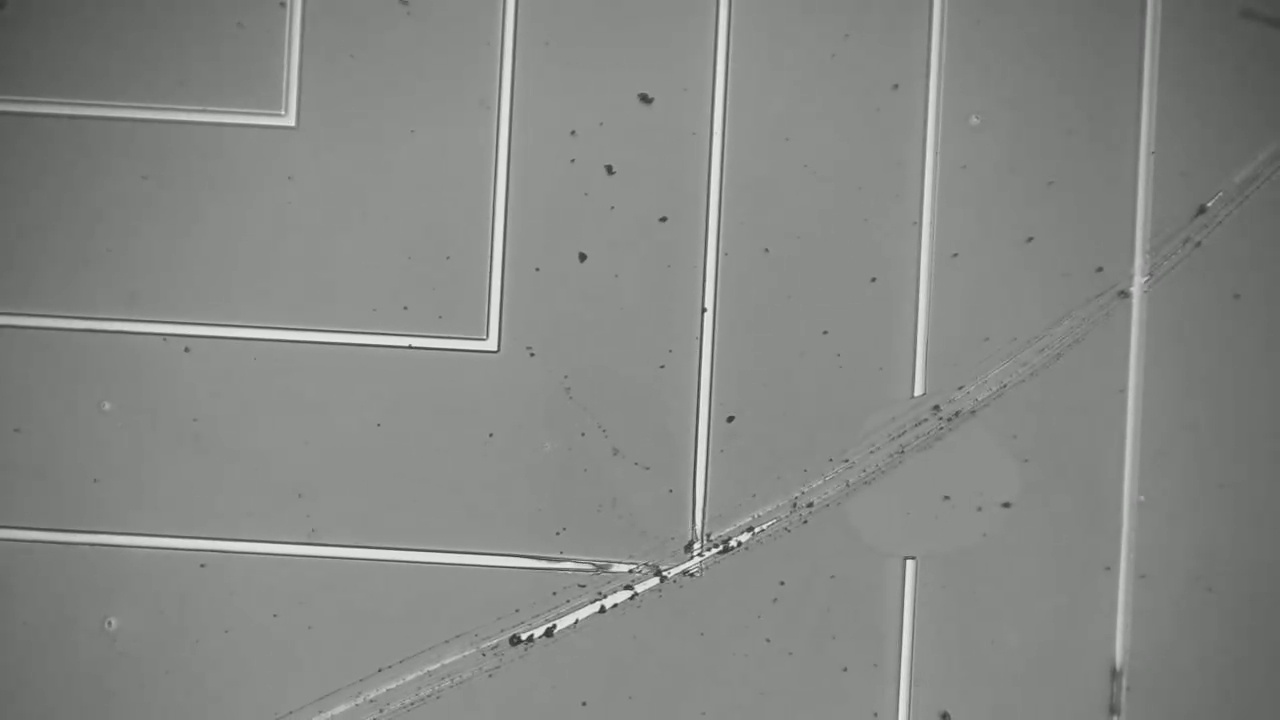gray_line: (1093, 641, 1146, 719)
open: (860, 358, 951, 600)
scratch: (745, 176, 1265, 541), (256, 575, 696, 720)
